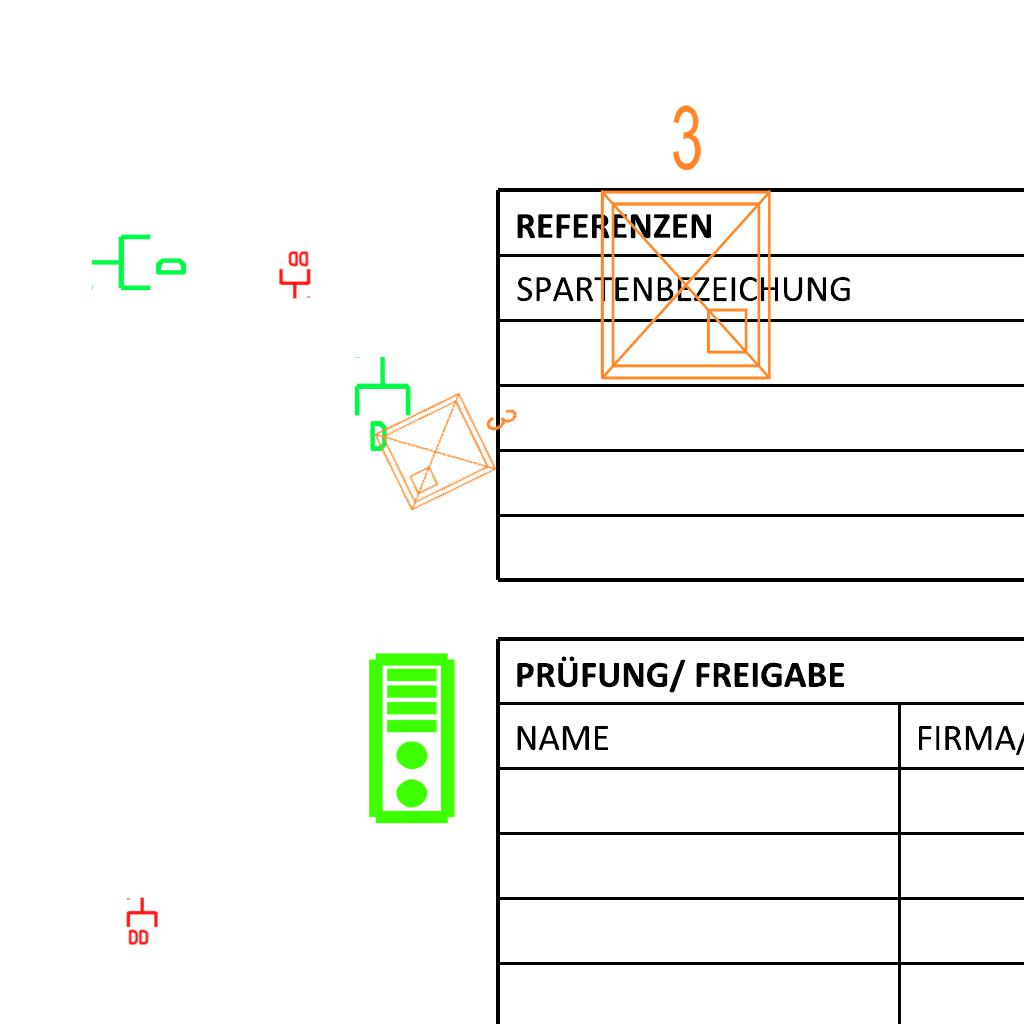Datenanschluss_einfach: (350, 354, 419, 454), (89, 226, 189, 295)
Datenanschluss_zweifach: (277, 249, 311, 300), (126, 896, 160, 947)
Einbaudownlights_LED_Konferenzraeume: (578, 94, 786, 394), (362, 361, 544, 521)
Gegensprechanlage_mit_Video: (366, 651, 461, 827)
